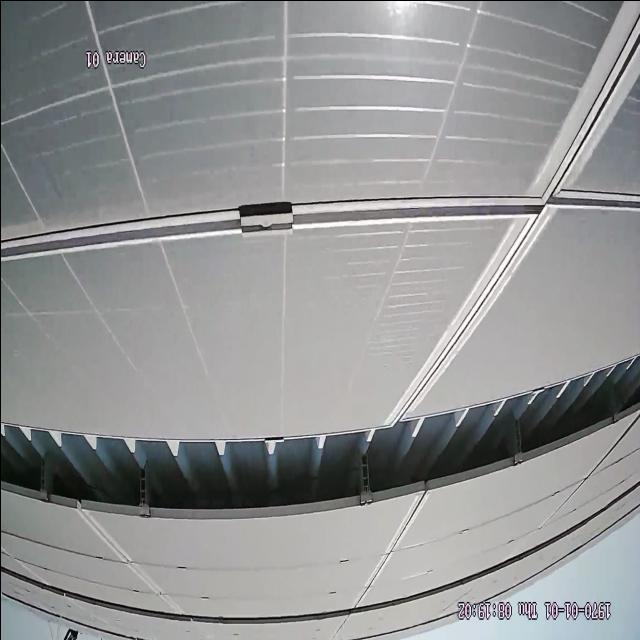interior panel: (0, 3, 640, 415), (77, 515, 177, 605), (350, 498, 427, 600)
outher panel: (1, 355, 636, 517)
